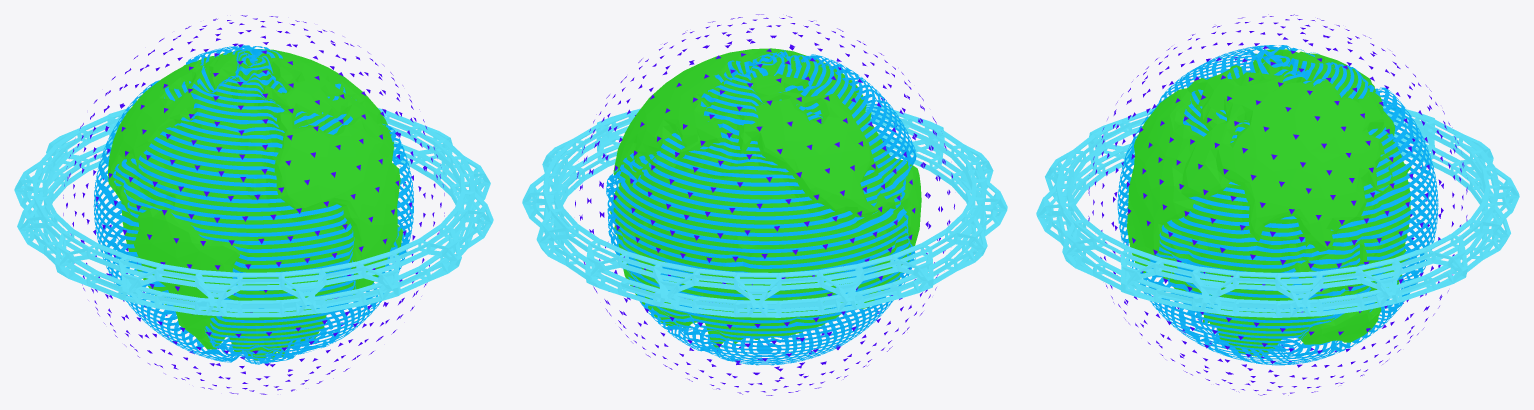
The model's file is managed-it.glb.
3 renders of one model, left to right at view 1: azimuth 30°, elevation 25°; view 2: azimuth 150°, elevation 25°; view 3: azimuth 270°, elevation 25°, orthographic.
Parts seen in each view (by area): view 1: TERRE1, Circle.643, Sphere.002, Circle.455; view 2: TERRE1, Sphere.002, Circle.643, Circle.455; view 3: TERRE1, Circle.643, Sphere.002, Circle.455.
Boxes of the visible parts, bbox=[...] form: TERRE1: bbox=[108, 49, 403, 360]; Circle.643: bbox=[14, 107, 493, 317]; Sphere.002: bbox=[93, 45, 413, 364]; Circle.455: bbox=[63, 15, 444, 394]; TERRE1: bbox=[610, 48, 921, 348]; Sphere.002: bbox=[606, 50, 916, 365]; Circle.643: bbox=[522, 103, 1007, 317]; Circle.455: bbox=[575, 14, 954, 395]; TERRE1: bbox=[1127, 49, 1410, 356]; Circle.643: bbox=[1036, 106, 1519, 317]; Sphere.002: bbox=[1117, 45, 1438, 365]; Circle.455: bbox=[1088, 14, 1467, 395].
Bounding box in the file's own units: 10.1 × 7.98 × 10.1.
